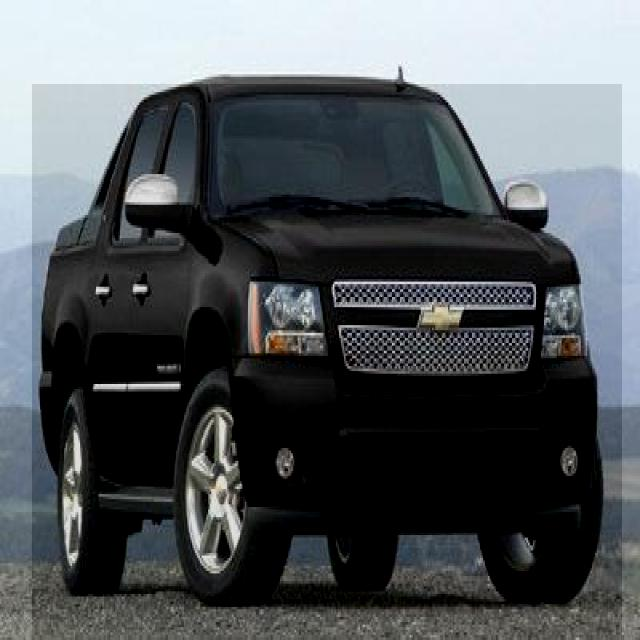Car: (32, 84, 622, 640)
